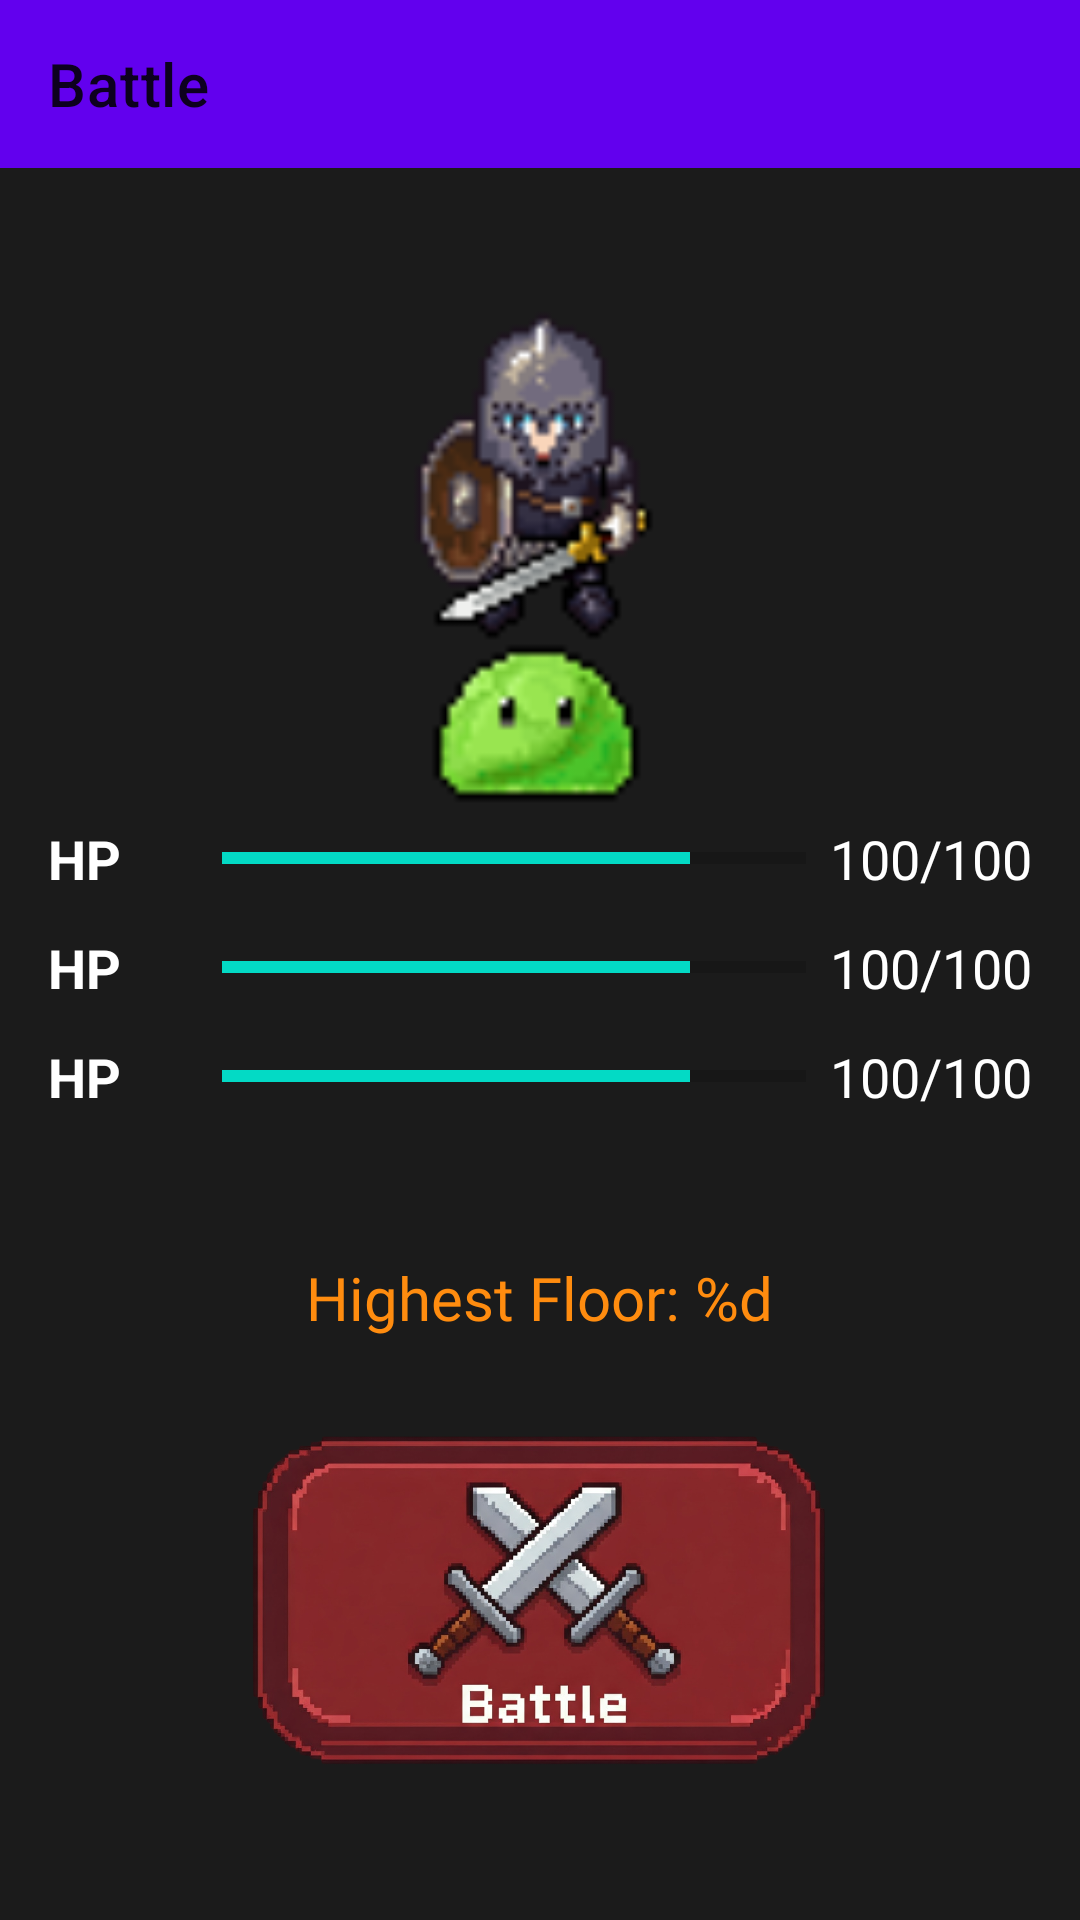

Screen size 1080*1920. Icon name, then its box in pixels as (x1, y1, x2, y2):
slime: (438, 607, 635, 797)
